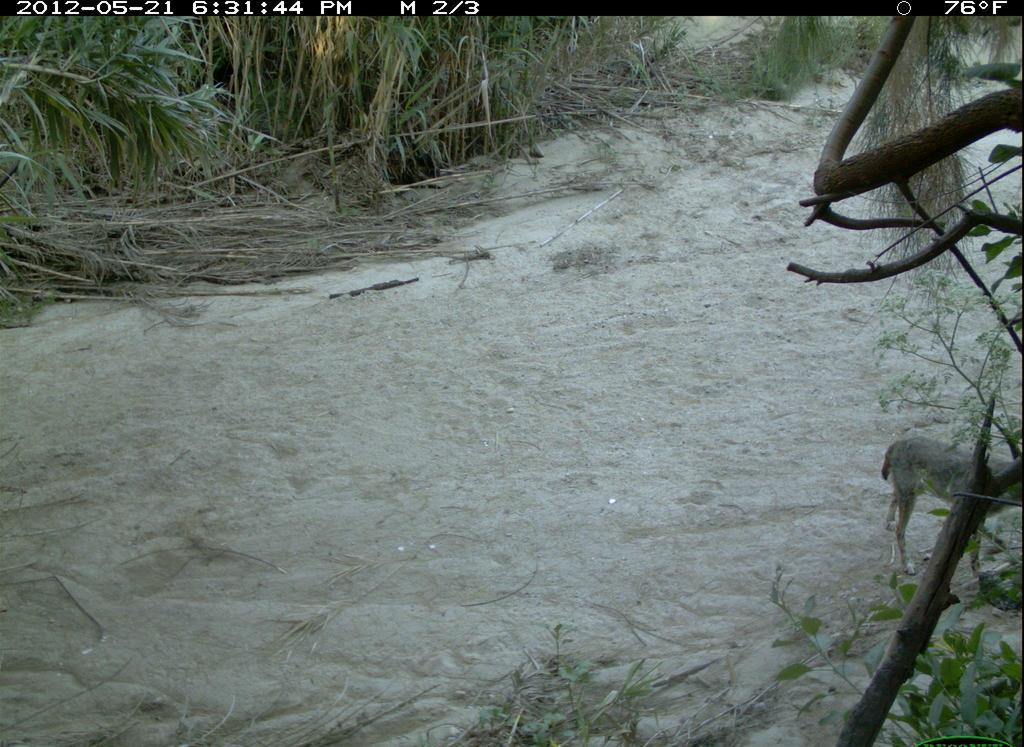coyote: (877, 436, 1019, 597)
